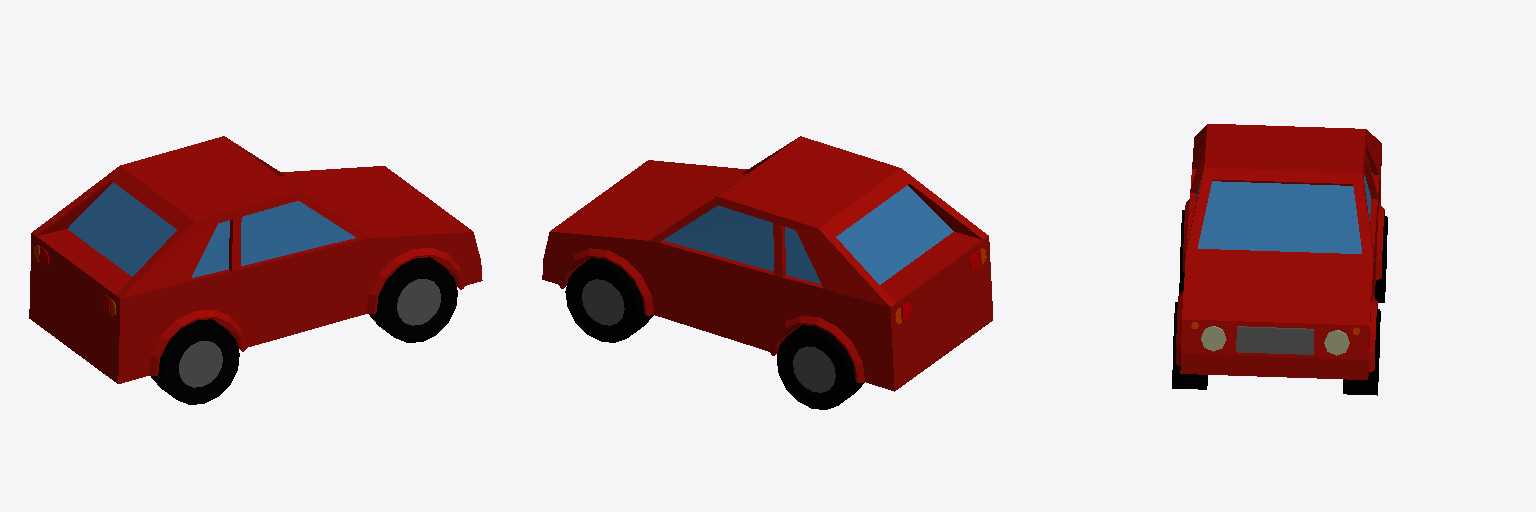
The model's file is car-hatchback-red.obj.
3 renders of one model, left to right at view 1: azimuth 30°, elevation 25°; view 2: azimuth 150°, elevation 25°; view 3: azimuth 270°, elevation 25°, orthographic.
Visible parts, largest first — view 1: car-hatchback-red_Cube.617_carmaterial_red, car-hatchback-red_Cube.617_windows, car-hatchback-red_Cube.617_tires, car-hatchback-red_Cube.617_metal; view 2: car-hatchback-red_Cube.617_carmaterial_red, car-hatchback-red_Cube.617_windows, car-hatchback-red_Cube.617_tires, car-hatchback-red_Cube.617_metal; view 3: car-hatchback-red_Cube.617_carmaterial_red, car-hatchback-red_Cube.617_windows, car-hatchback-red_Cube.617_tires, car-hatchback-red_Cube.617_metal, car-hatchback-red_Cube.617_lights.
Part boxes in pixels (x1,y1,x2,y2): car-hatchback-red_Cube.617_carmaterial_red: (29,136,482,383); car-hatchback-red_Cube.617_windows: (68,182,355,277); car-hatchback-red_Cube.617_tires: (151,257,457,404); car-hatchback-red_Cube.617_metal: (179,279,440,387); car-hatchback-red_Cube.617_carmaterial_red: (542,136,992,391); car-hatchback-red_Cube.617_windows: (663,185,953,284); car-hatchback-red_Cube.617_tires: (565,258,864,409); car-hatchback-red_Cube.617_metal: (582,279,835,392); car-hatchback-red_Cube.617_carmaterial_red: (1176,124,1384,379); car-hatchback-red_Cube.617_windows: (1196,173,1372,253); car-hatchback-red_Cube.617_tires: (1172,210,1387,395); car-hatchback-red_Cube.617_metal: (1236,326,1313,354); car-hatchback-red_Cube.617_lights: (1201,326,1349,355).
Bounding box in the file's own units: 18.24 × 8.72 × 9.37.